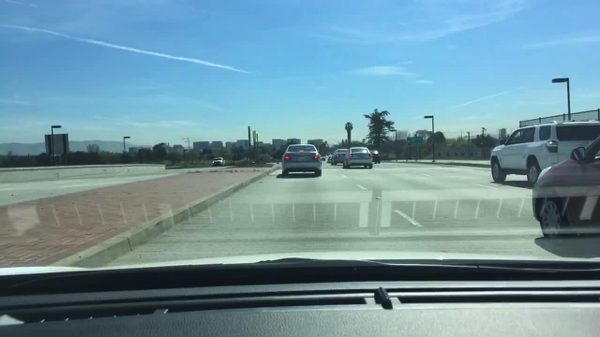car: (531, 132, 599, 237), (490, 120, 599, 185), (279, 145, 321, 176), (342, 147, 372, 167), (331, 150, 349, 163), (369, 149, 380, 164), (210, 156, 224, 166), (326, 156, 332, 163), (321, 156, 326, 162)
traffic sign: (46, 135, 69, 156), (404, 136, 424, 147)
